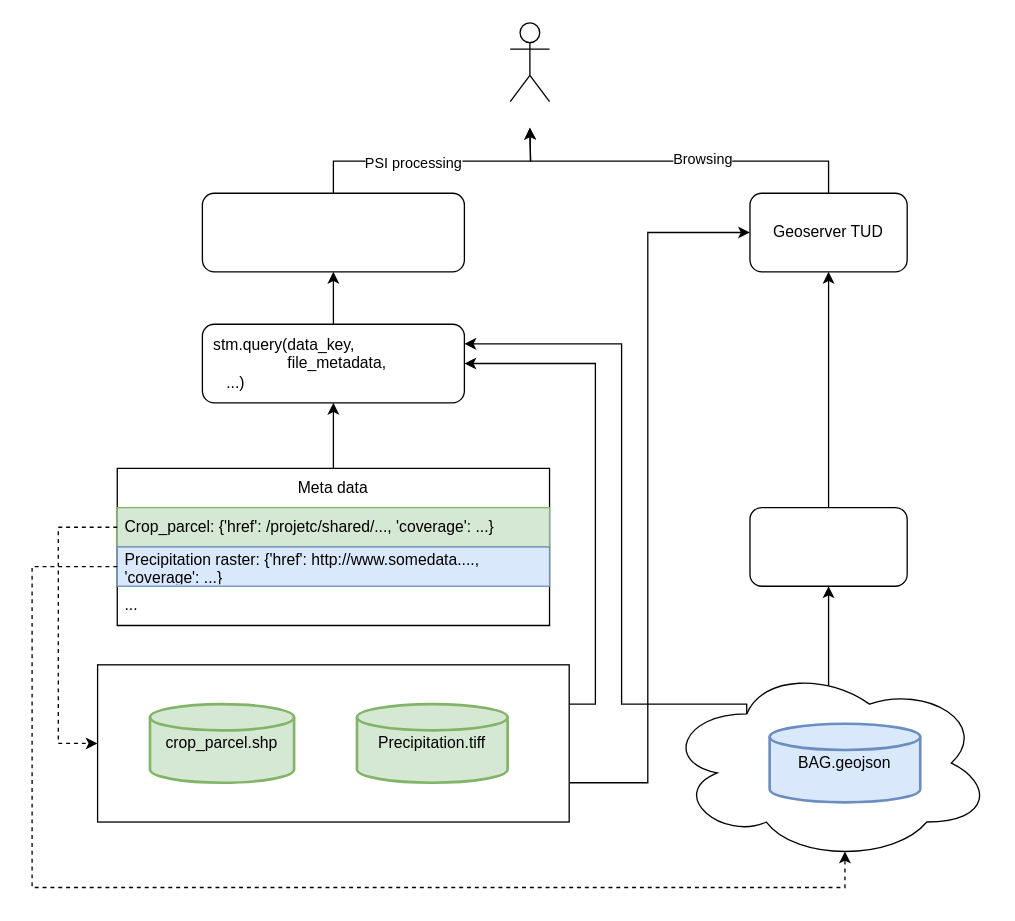
Some shapes in this 1015 by 921 pixel diagram are drawn without their labels. The centre of each missing label's shape, as x and y in pixels:
(Py)DePSI: (332,232)
GeoServer Remote: (828,546)
User: (529,62)
